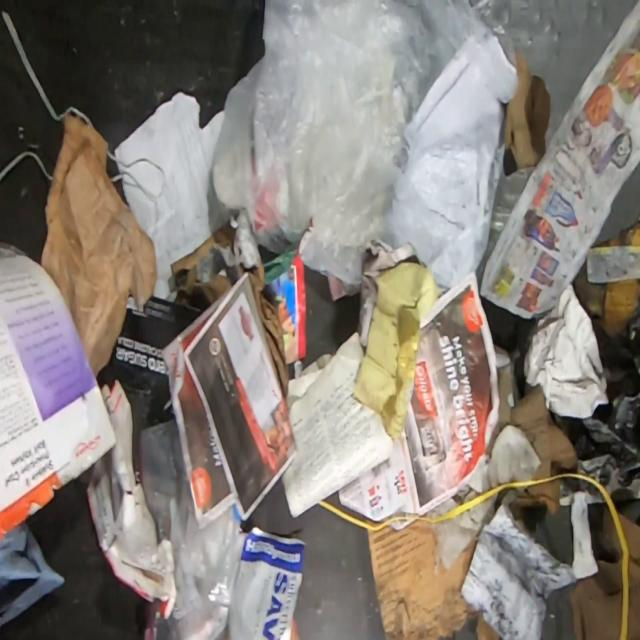cardboard: (40, 111, 157, 380), (366, 511, 479, 639), (574, 504, 640, 639), (508, 500, 525, 526)
soft_plastic: (209, 1, 518, 292), (142, 419, 244, 639), (0, 522, 64, 629)
